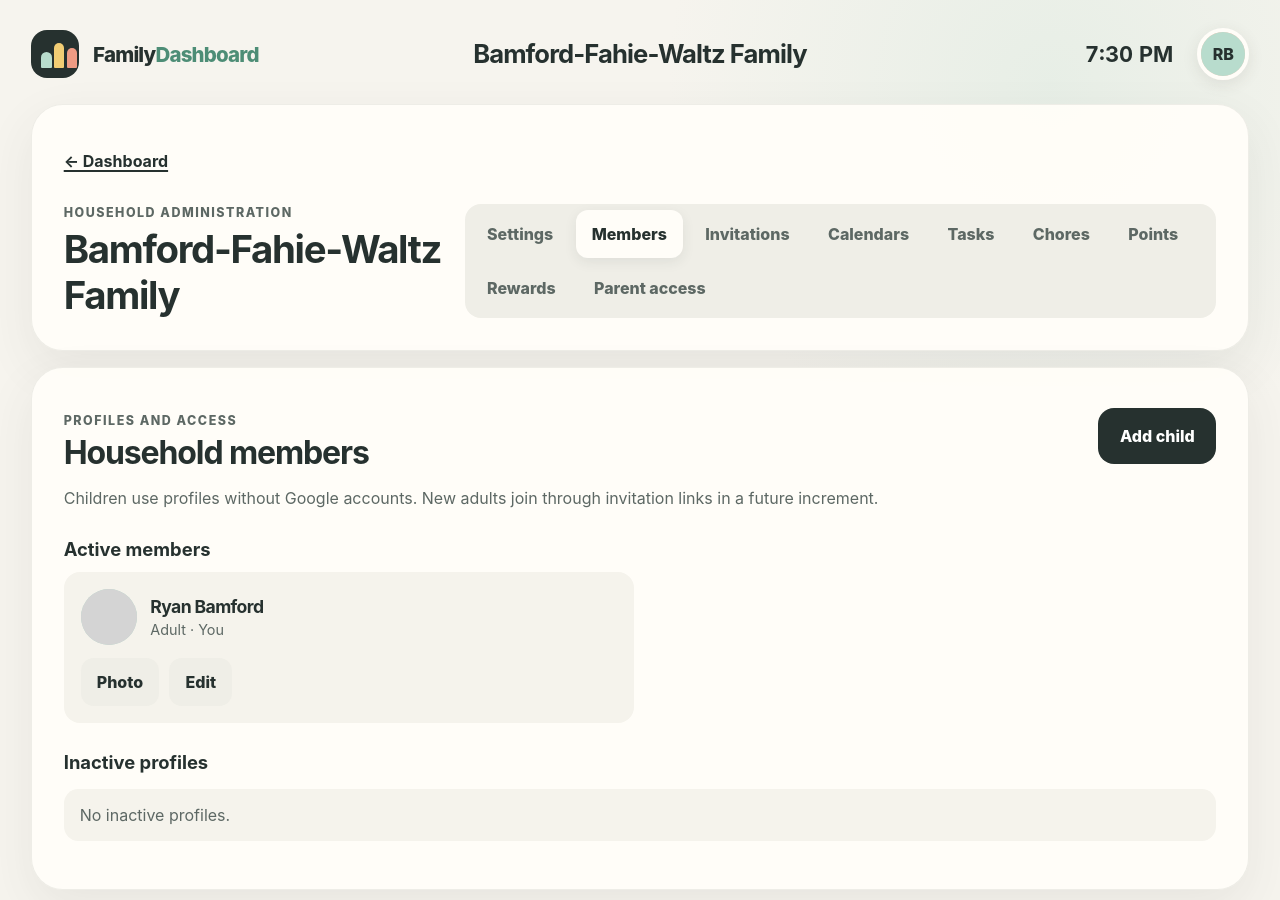
Scenario: household administration › removes a private member photo with explicit confirmation
This screenshot has width=1280, height=900.
Expected: the heading "Household members" is shown, top-left (64, 433), bottom-right (369, 472)
Click the button "Photo". click: (120, 682)
box: top-left (81, 658), bottom-right (159, 706)
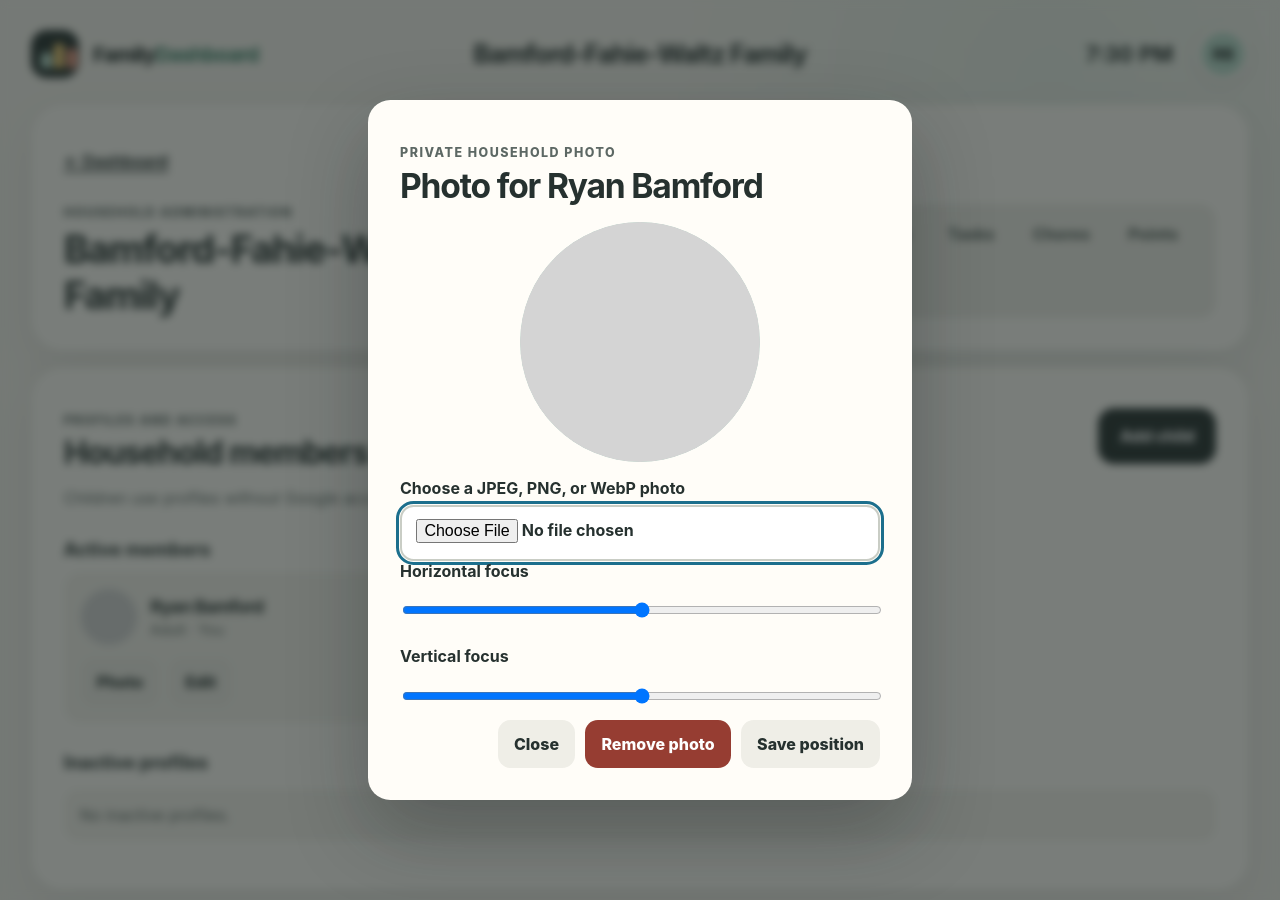
Click the button "Remove photo". click: (658, 744)
box: top-left (585, 720), bottom-right (731, 768)
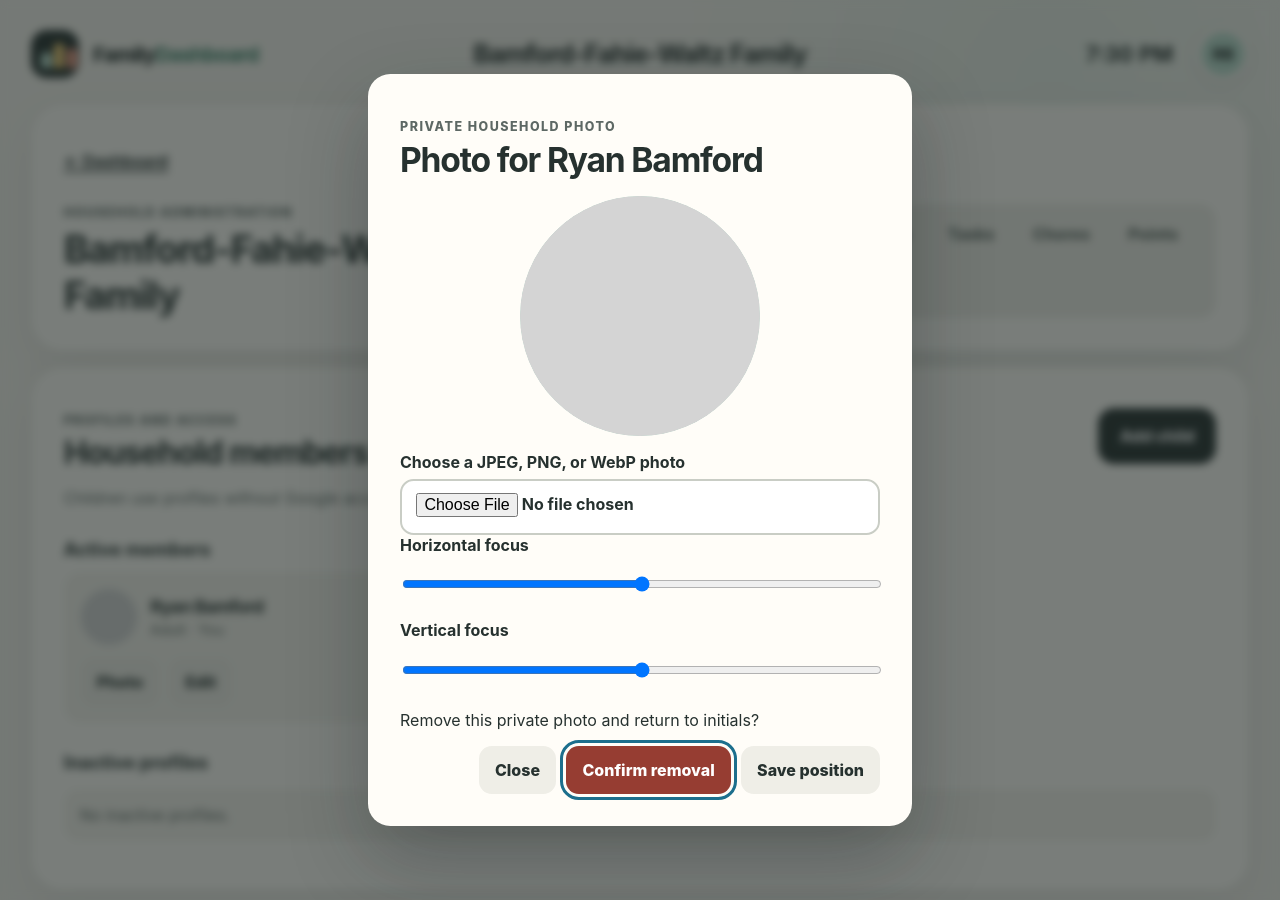
Result: the text "Remove this private photo and return to initials?" is shown at top-left (400, 710), bottom-right (759, 730)
Click the button "Confirm removal". click: (649, 770)
box: top-left (566, 746), bottom-right (731, 794)
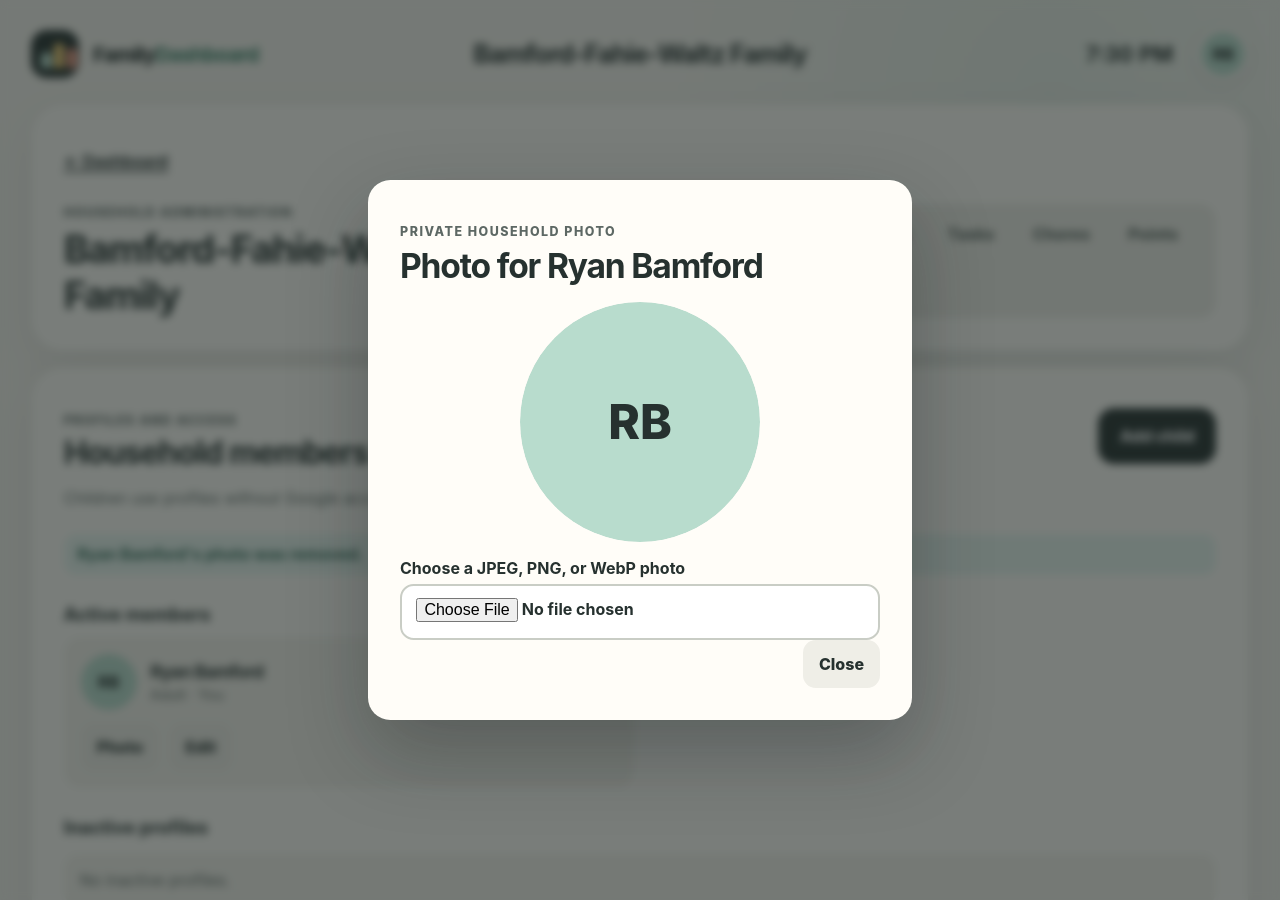
Result: the text "Ryan Bamford's photo was removed." is shown at top-left (64, 534), bottom-right (1216, 574)
